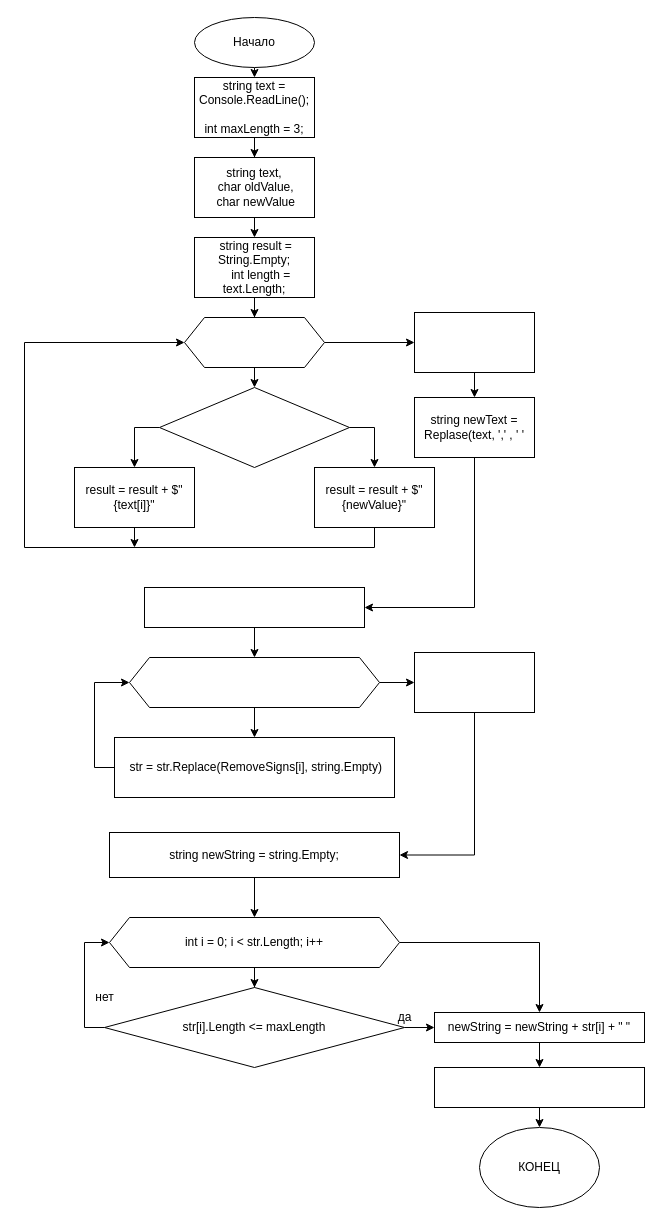
This 662x1225 diagram has some shape labels left out. The centre of each missing label's shape, as x and y in pixels:
int i = 0; i < length; i++: point (254, 342)
int i = 0; i < RemoveSigns.Length; i++: point (254, 682)
return newString.Split(" "): point (539, 1087)
return result: point (474, 342)
return str.Split(" "): point (474, 682)
string[] RemoveSigns = { ".", "!", ","};: point (254, 607)
text[i] == oldValue: point (254, 427)
